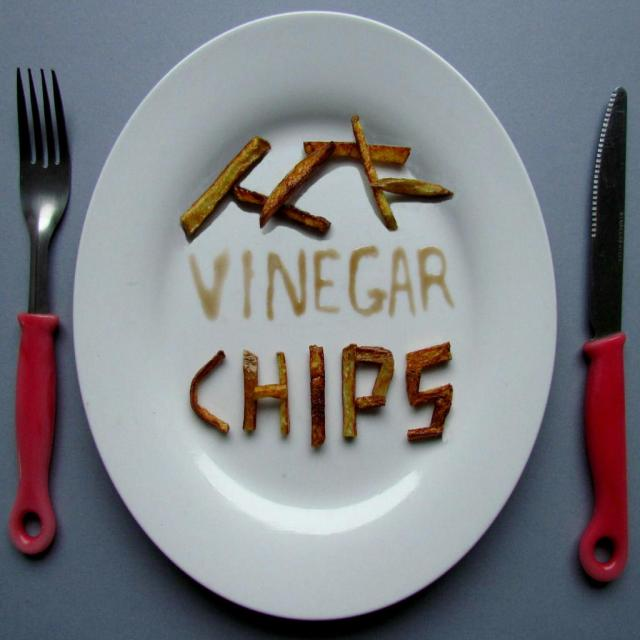non-organic waste: (72, 19, 570, 632)
